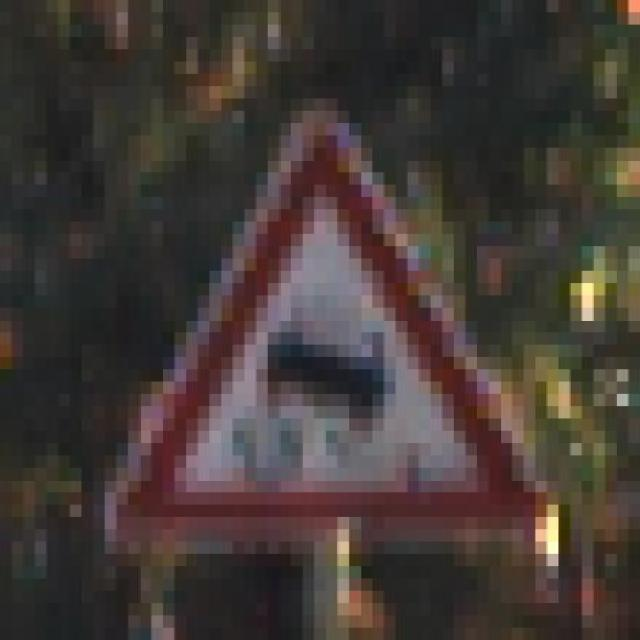Slippery Road Ahead: (81, 110, 558, 542)
